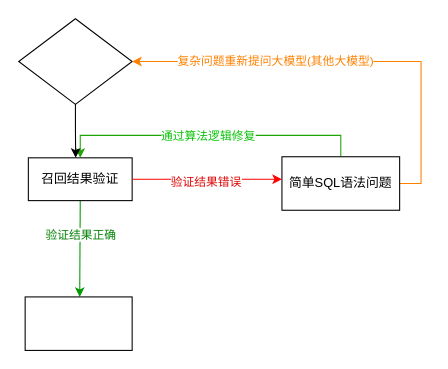
Some shapes in this 448 by 369 pixel diagram are drawn without their labels. Each missing label, with the centre of its shape:
"大模型" belongs at (75,61).
"查询并返回结果" belongs at (78,323).
